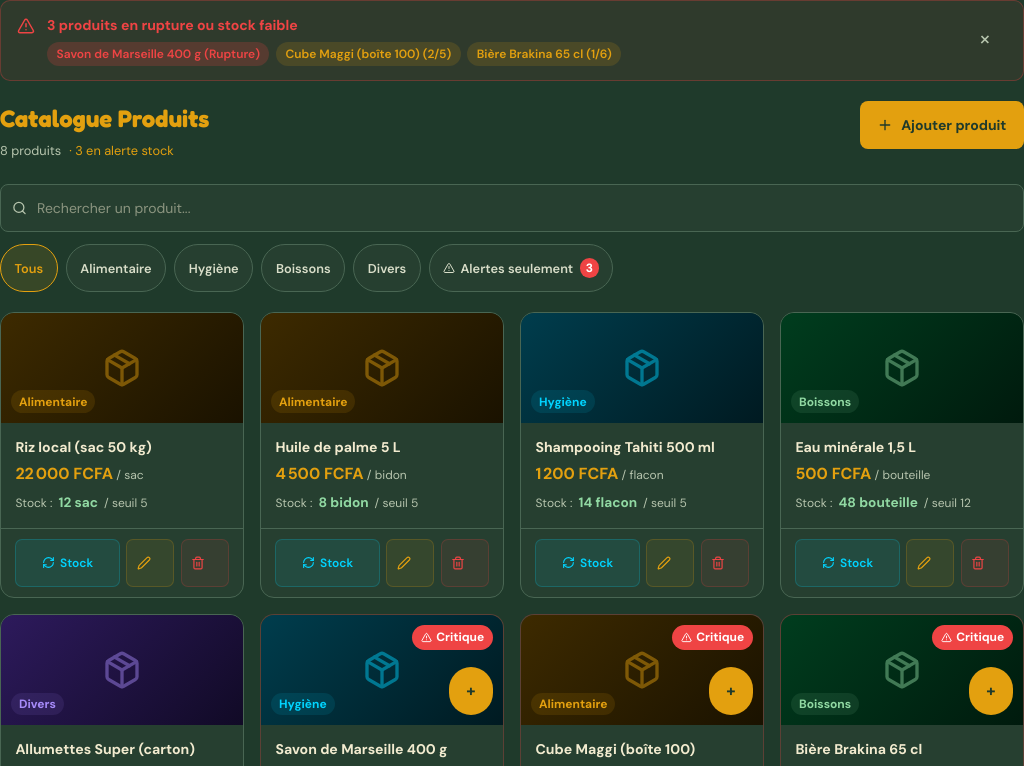
Test: ProduitsPage › 23 — "Alertes seulement" filtre : affiche Savon (alerte), masque Riz (OK)
Click the button "Alertes seulement 3" at (521, 268), box [429,244,613,292]
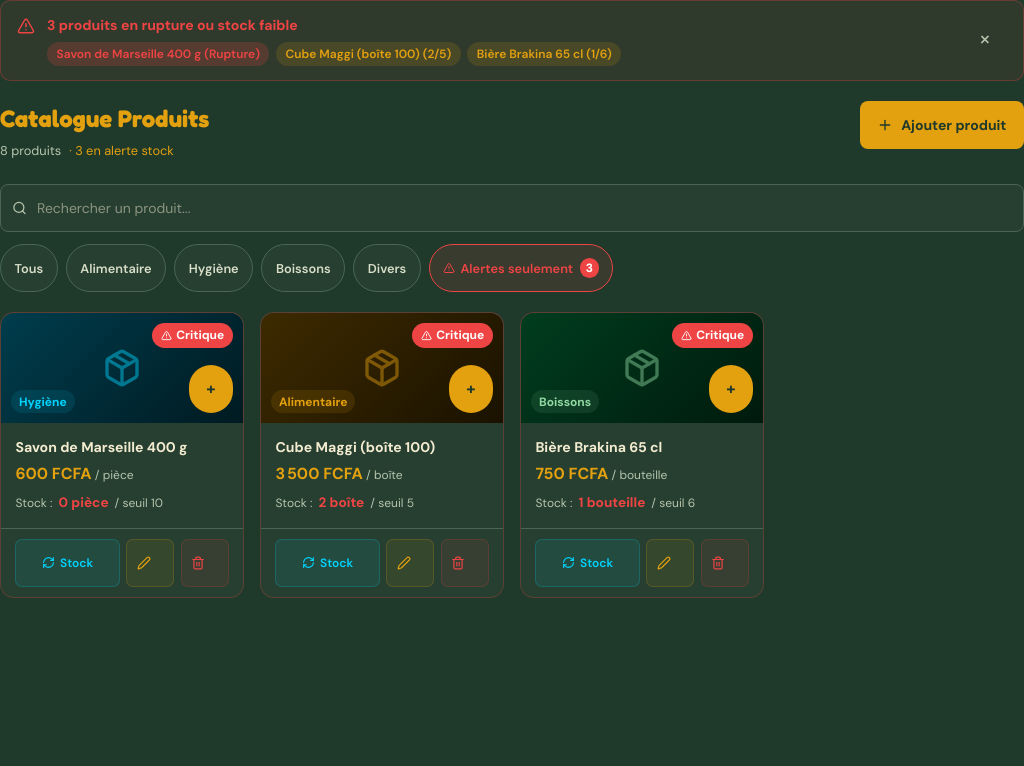
Expected: the text "Savon de Marseille 400 g" is shown, [15,438,187,456]
Expected: the text "Riz local (sac 50 kg)" is gone
